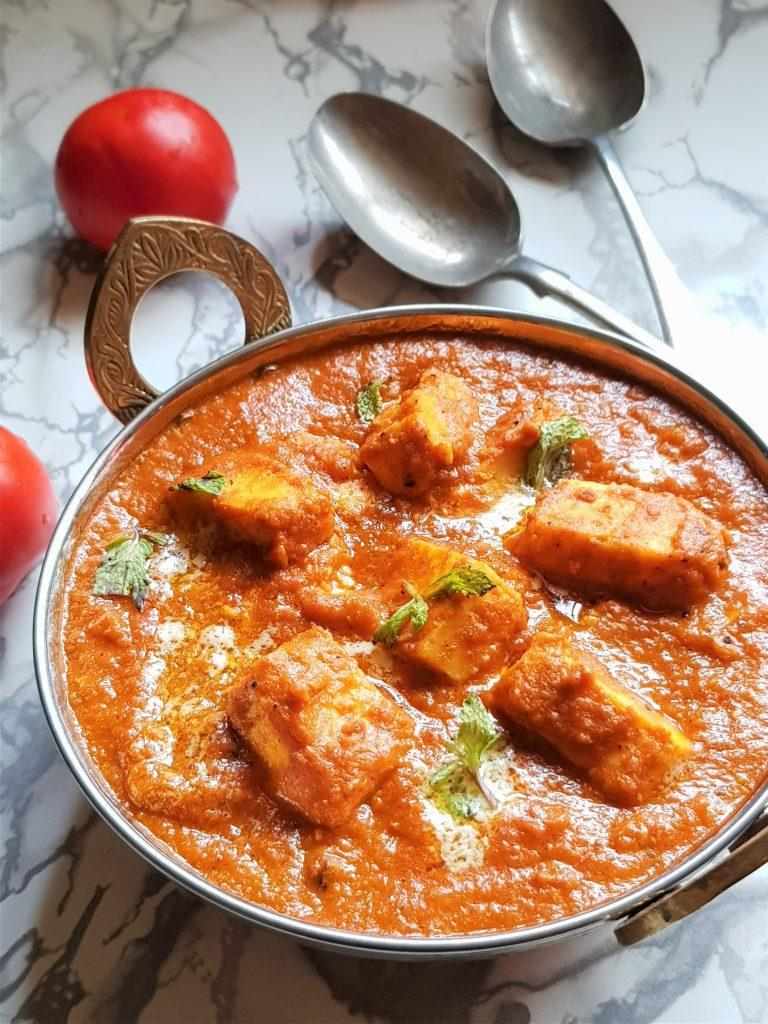paneer: (204, 431, 698, 836)
